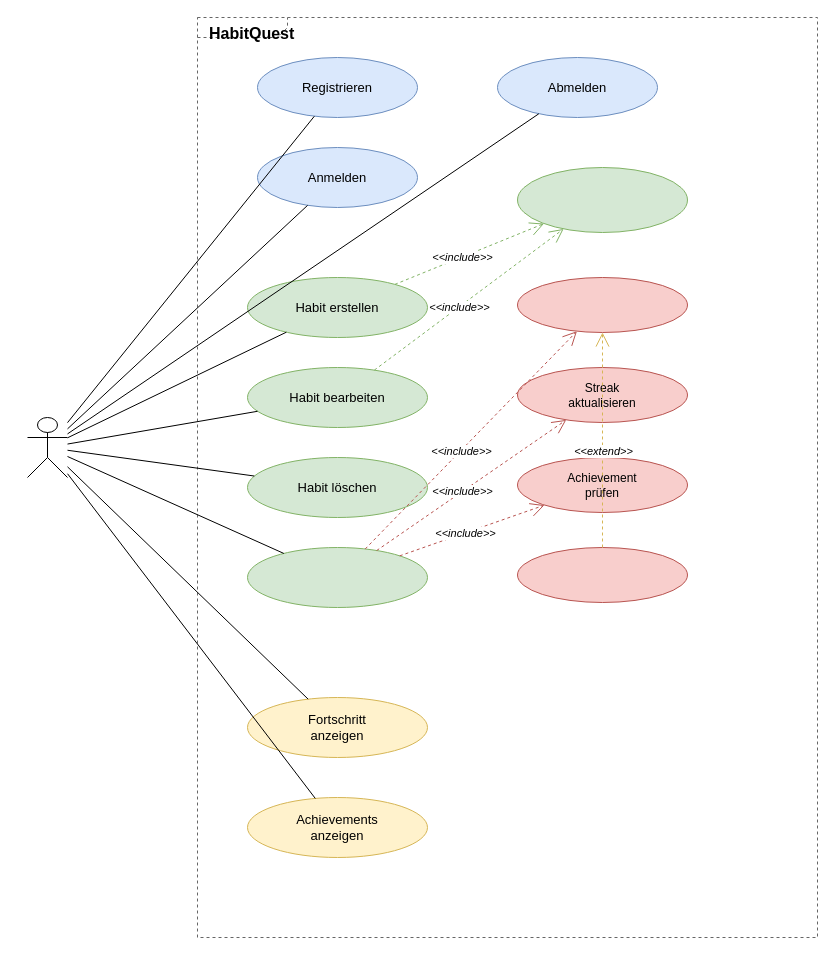
Some shapes in this 835 by 955 pixel diagram are drawn without their labels. The shapes that lost their labels are listed below. From the top down, each one's box as (x1, y1, x2, y2) in pixels, then its label:
(516, 166, 688, 232): Frequenz & Schwierigkeit wählen
(516, 276, 688, 332): XP berechnen
(26, 416, 68, 478): Benutzer
(246, 546, 428, 608): Habit abschließen
(516, 546, 688, 602): Level aufsteigen
